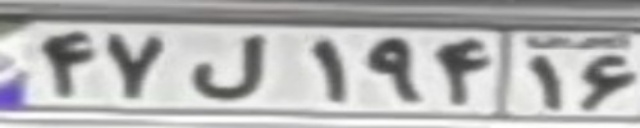1: (312, 37, 355, 103), (526, 53, 564, 109)
4: (39, 27, 93, 97), (438, 36, 493, 104)
6: (578, 51, 633, 109)
7: (105, 30, 165, 98)
9: (367, 35, 428, 101)
lam: (187, 32, 263, 99)
